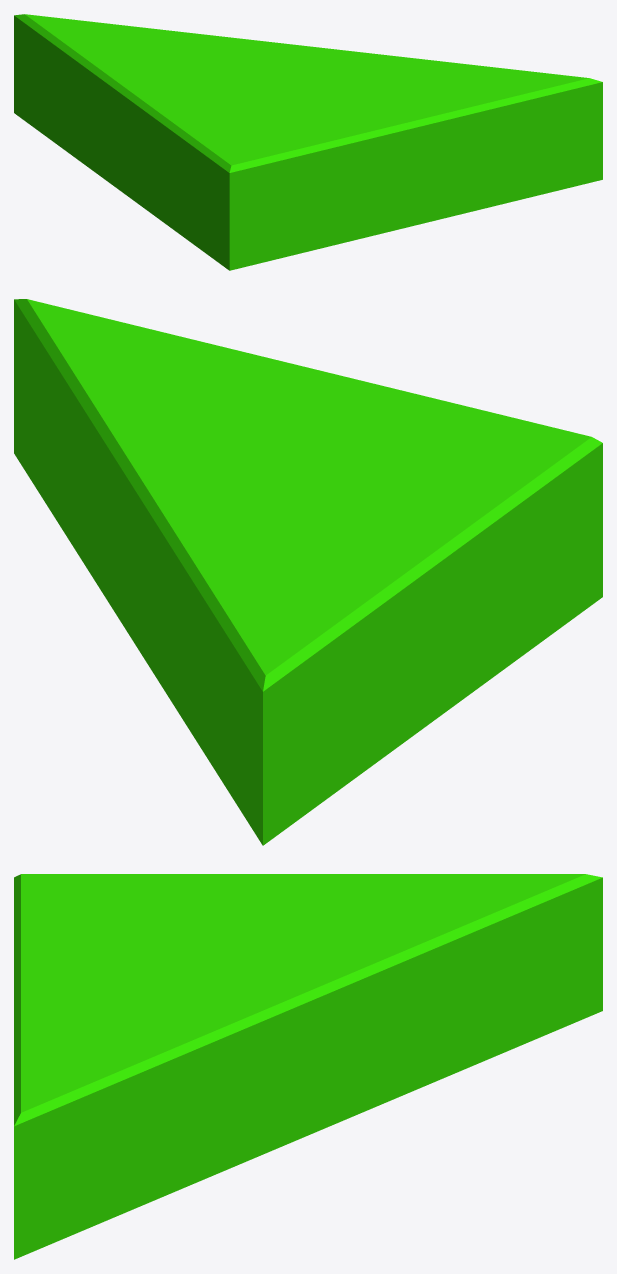
Rendered from triangle_4x1.fbx.
3 renders of one model, top to bottom at view 1: azimuth 30°, elevation 25°; view 2: azimuth 150°, elevation 25°; view 3: azimuth 270°, elevation 25°, orthographic. The views are drawn at different scales.
Parts seen in each view (by area): view 1: triangle_4x1; view 2: triangle_4x1; view 3: triangle_4x1.
Part boxes in pixels (box(x1,y1,x2,y2)): triangle_4x1: box(14, 14, 602, 270); triangle_4x1: box(14, 299, 602, 845); triangle_4x1: box(14, 874, 602, 1259).
Bounding box in the file's own units: 420 × 110 × 420.
